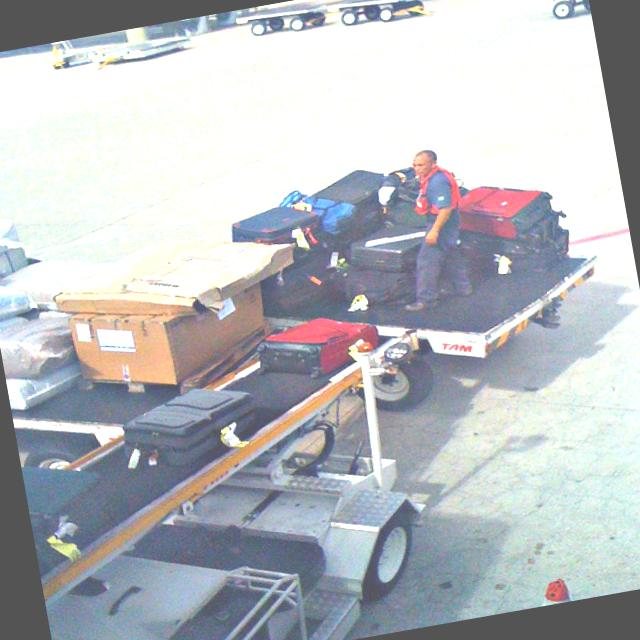Vehicle: (4, 307, 435, 640)
